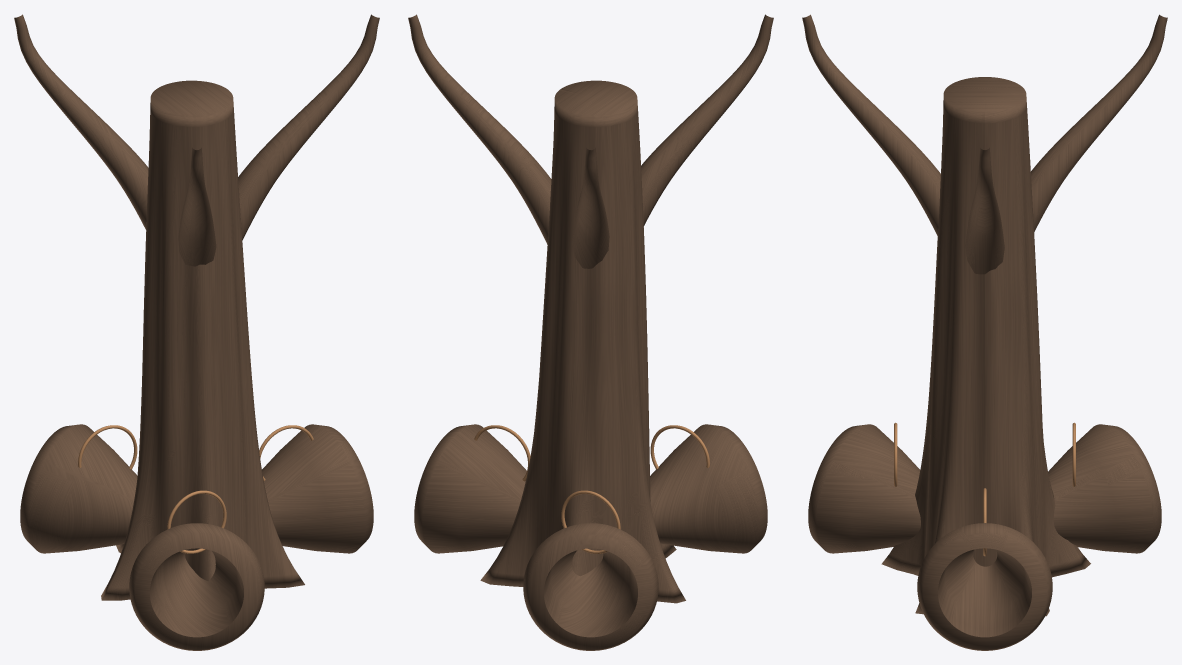
Rendered from bellroot-tree.glb.
3 renders of one model, left to right at view 1: azimuth 30°, elevation 25°; view 2: azimuth 150°, elevation 25°; view 3: azimuth 270°, elevation 25°, orthographic.
Visible parts, largest first — view 1: ceremonial-bellroot-tree_0, ceremonial-bellroot-tree_1; view 2: ceremonial-bellroot-tree_0, ceremonial-bellroot-tree_1; view 3: ceremonial-bellroot-tree_0, ceremonial-bellroot-tree_1.
Boxes of the visible parts, bbox=[...] form: ceremonial-bellroot-tree_0: bbox=[14, 14, 379, 650]; ceremonial-bellroot-tree_1: bbox=[78, 425, 313, 553]; ceremonial-bellroot-tree_0: bbox=[408, 14, 773, 650]; ceremonial-bellroot-tree_1: bbox=[474, 425, 709, 553]; ceremonial-bellroot-tree_0: bbox=[802, 14, 1167, 650]; ceremonial-bellroot-tree_1: bbox=[894, 422, 1075, 556].
Size of the model in its own units: 2.36 by 3.93 by 2.48.
2 materials, 1 textured.
